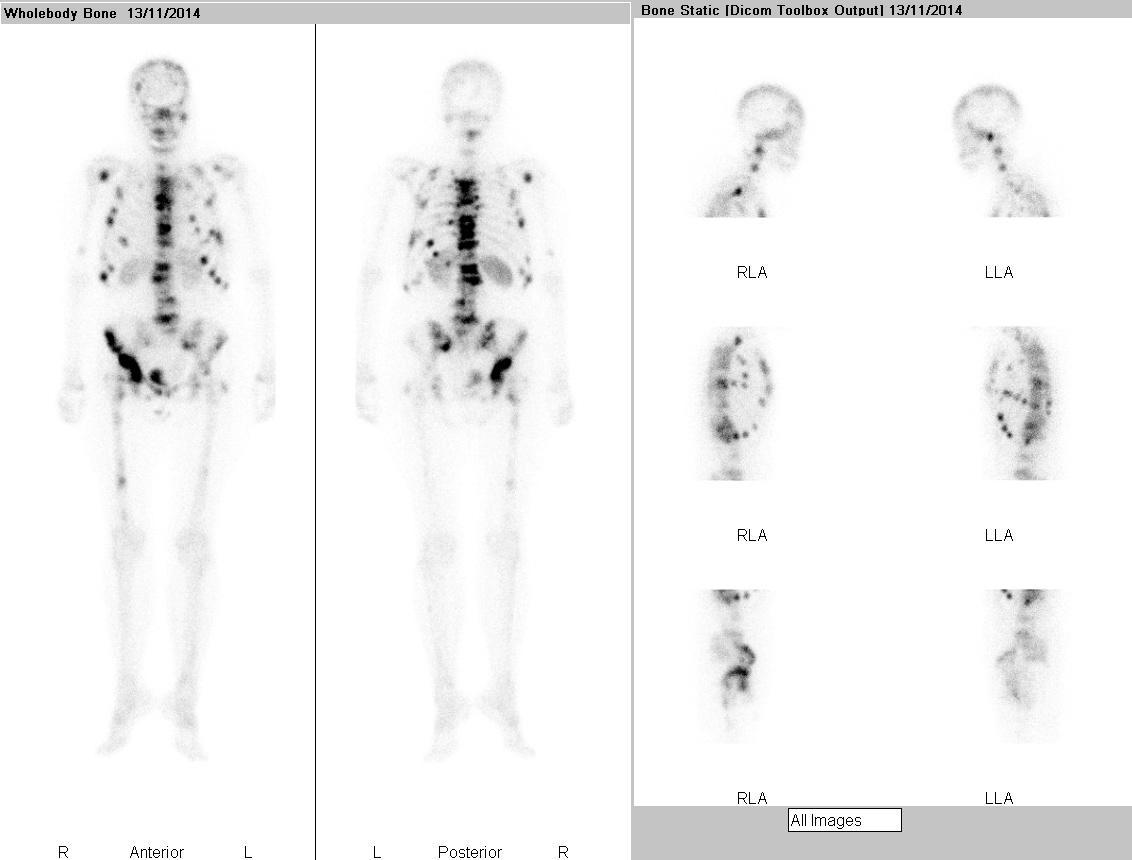person: (1, 26, 631, 860)
